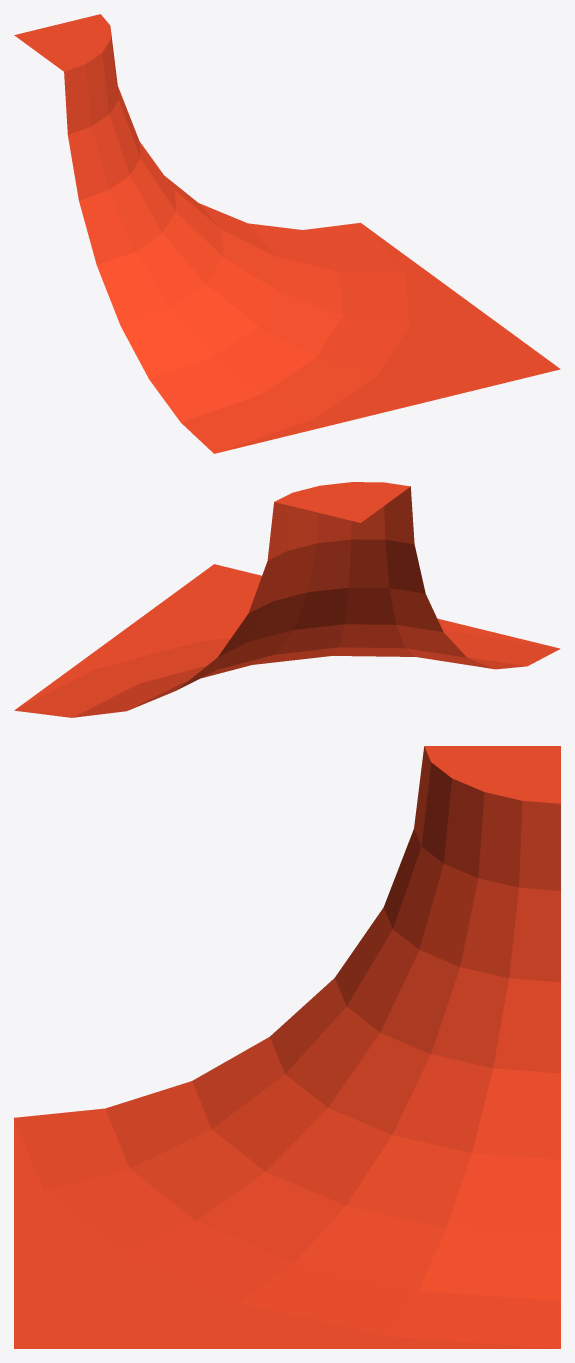
File: SM_Skate_Bowl_Turn_B_City.fbx
3 views of the same model, one above another, from view 1: azimuth 30°, elevation 25°; view 2: azimuth 150°, elevation 25°; view 3: azimuth 270°, elevation 25° (orthographic). The views are drawn at different scales.
Parts seen in each view (by area): view 1: SM_Skate_Bowl_Turn_B_City; view 2: SM_Skate_Bowl_Turn_B_City; view 3: SM_Skate_Bowl_Turn_B_City.
Boxes of the visible parts, left/top/right/bottom form: SM_Skate_Bowl_Turn_B_City: left=14, top=14, right=560, bottom=453; SM_Skate_Bowl_Turn_B_City: left=14, top=482, right=560, bottom=717; SM_Skate_Bowl_Turn_B_City: left=14, top=746, right=560, bottom=1348.
Bounding box in the file's own units: 2 × 1.5 × 2.
